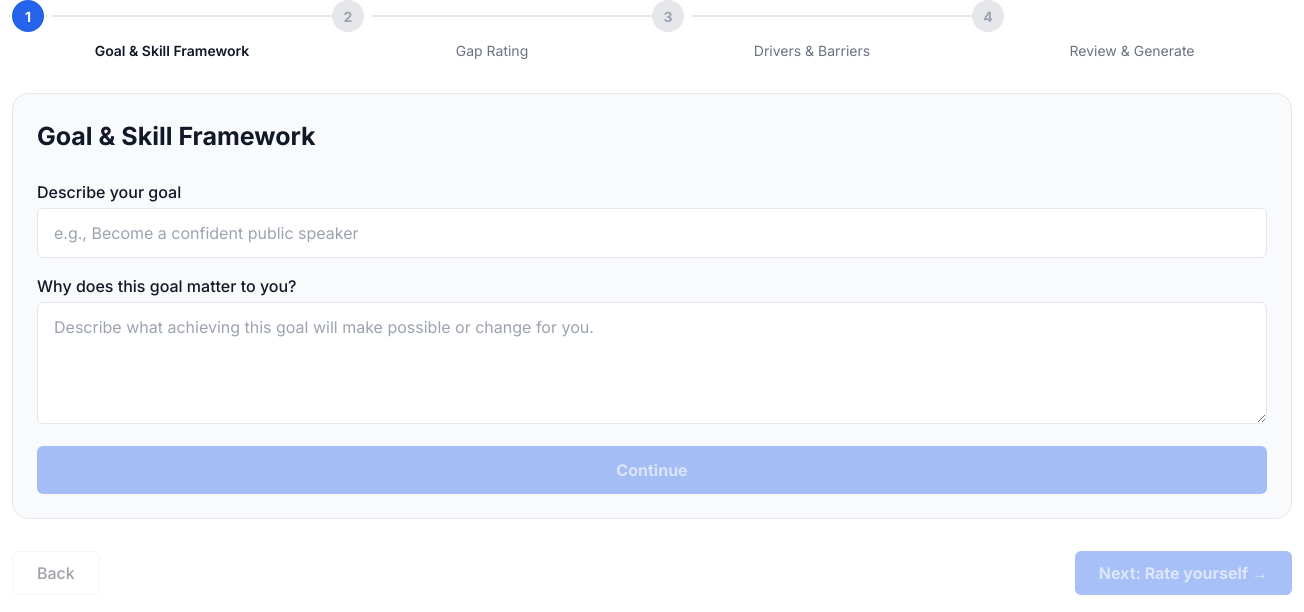
Test: GoalWizard › keeps framework generation and Next blocked until a why is entered
Type "Learn to swim" into the field labelled "Describe your goal" at (652, 232), box [37,208,1267,258]
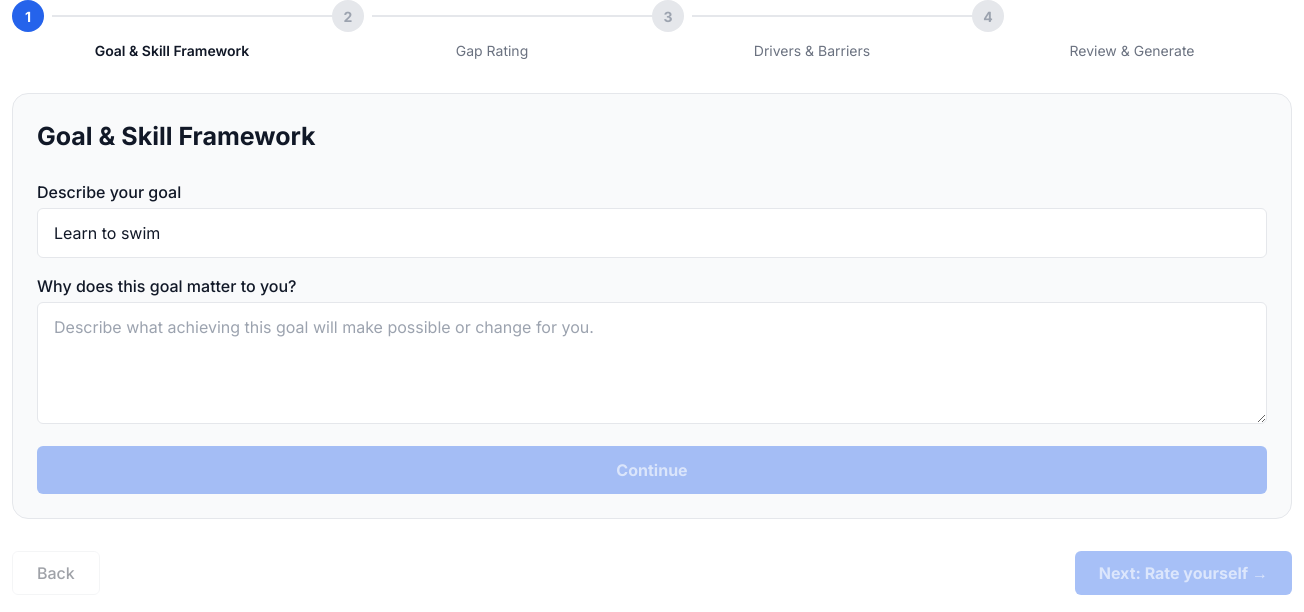
Expected: the button "Continue" is disabled, [37,446,1267,494]
Expected: the button "Next: Rate yourself →" is disabled, [1075,550,1292,594]
Replace the text in the text box labelled "Why does this goal matter to you?" with "I want to feel confident and safe in the water." at (652, 362), box [37,302,1267,424]
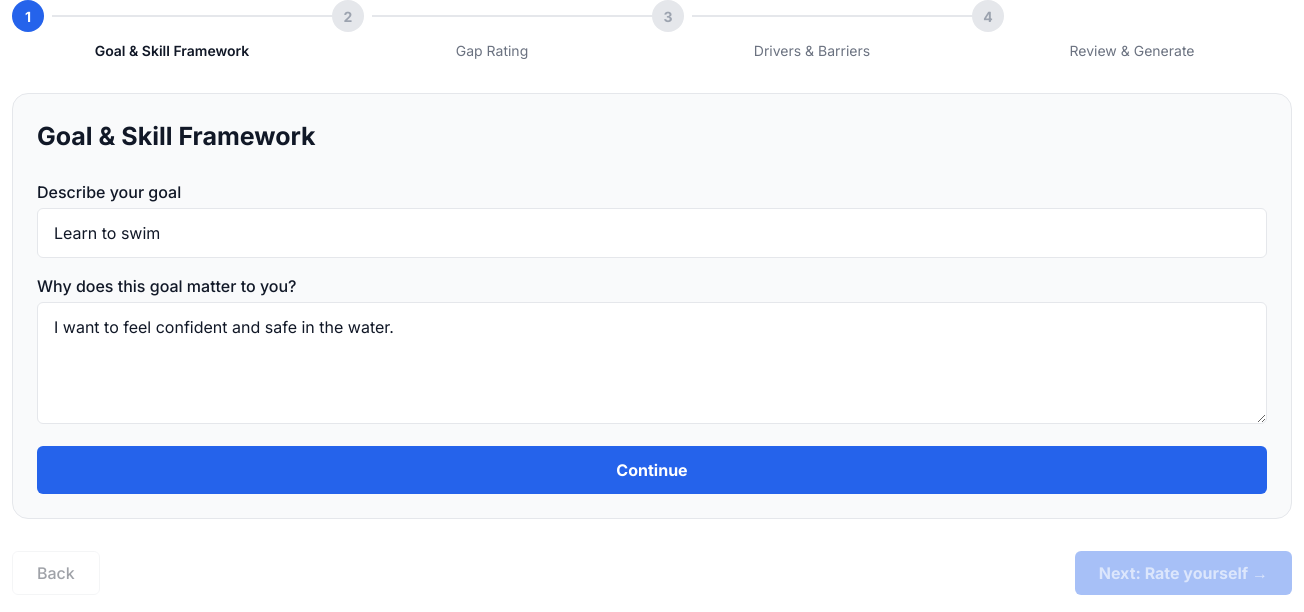
Expected: the button "Continue" is enabled, [37,446,1267,494]
